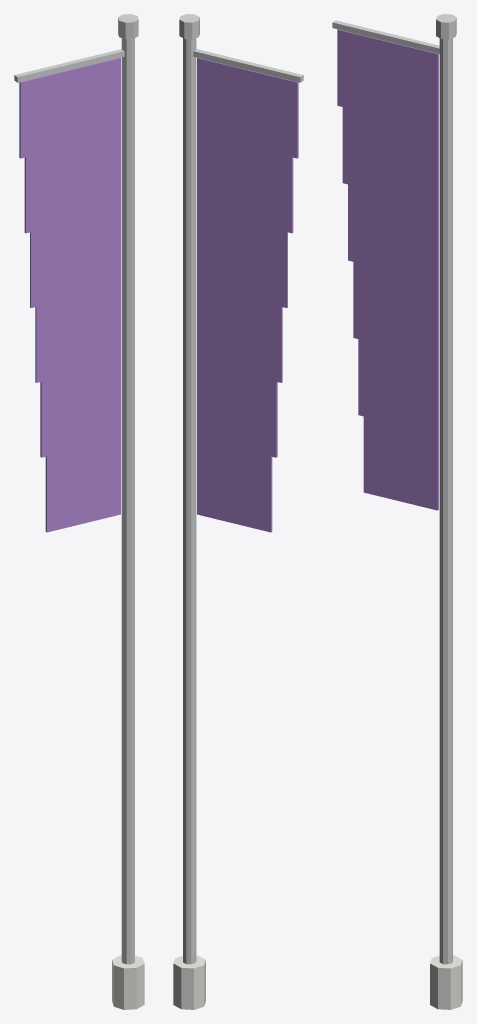
Rendered from Banner_Flag_Purple.fbx.
The picture shows the model from 3 angles, left to right: view 1: azimuth 30°, elevation 25°; view 2: azimuth 150°, elevation 25°; view 3: azimuth 330°, elevation 25°; orthographic projection.
Visible parts, largest first — view 1: Banner_Flag_Purple; view 2: Banner_Flag_Purple; view 3: Banner_Flag_Purple.
Boxes of the visible parts, box(x1,y1,x2,y2) form: Banner_Flag_Purple: box(14, 14, 144, 1009); Banner_Flag_Purple: box(173, 14, 303, 1009); Banner_Flag_Purple: box(332, 14, 462, 1009).
Size of the model in its own units: 0.96 by 7.12 by 0.22.
